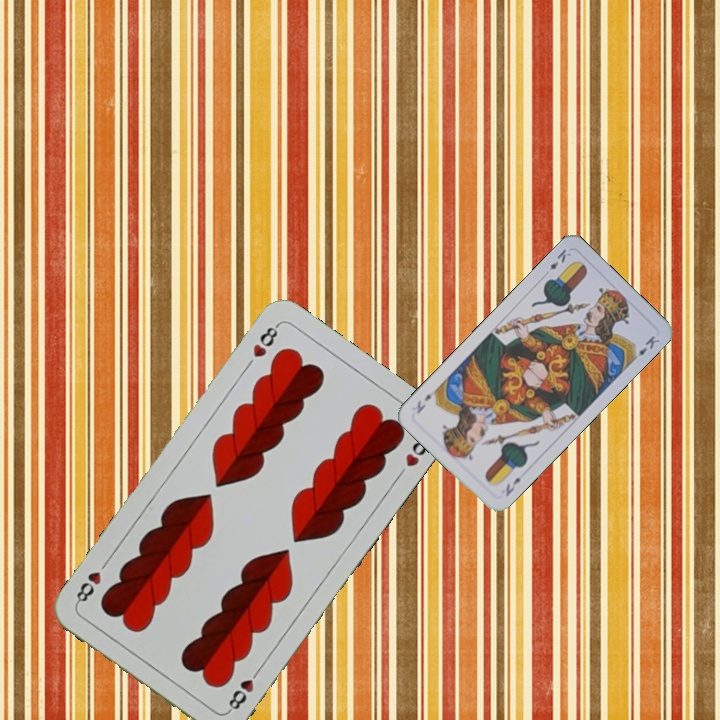EK: (546, 244, 574, 273), (501, 473, 524, 499)
H8: (223, 664, 263, 715), (248, 320, 282, 360)
